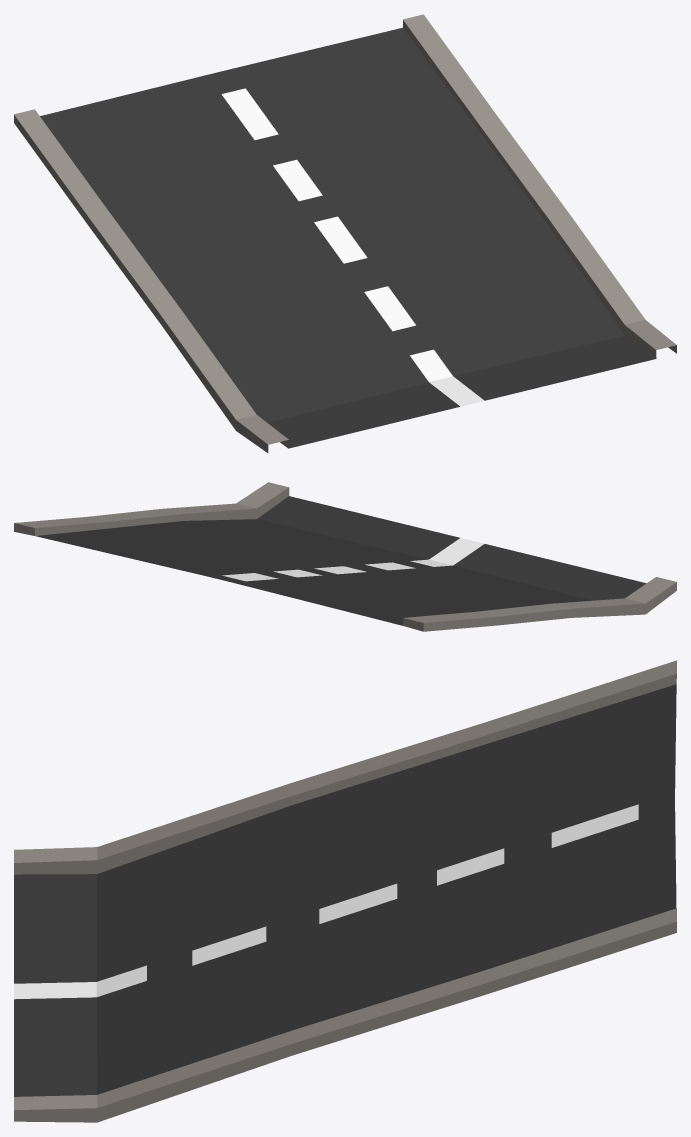
File: Road Tile_7.fbx
3 views of the same model, one above another, from view 1: azimuth 30°, elevation 25°; view 2: azimuth 150°, elevation 25°; view 3: azimuth 270°, elevation 25° (orthographic). The views are drawn at different scales.
Parts seen in each view (by area): view 1: Road Tile_7; view 2: Road Tile_7; view 3: Road Tile_7.
Part boxes in pixels (x1,y1,x2,y2): Road Tile_7: (14, 14, 676, 452); Road Tile_7: (14, 482, 676, 631); Road Tile_7: (14, 660, 676, 1122).
Bounding box in the file's own units: 801 × 288 × 860.
